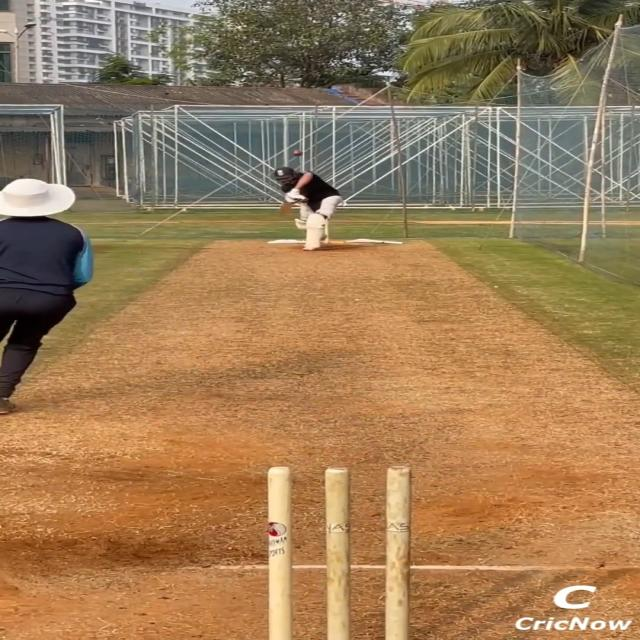ball: (292, 150, 304, 156)
stump: (267, 465, 418, 640)
